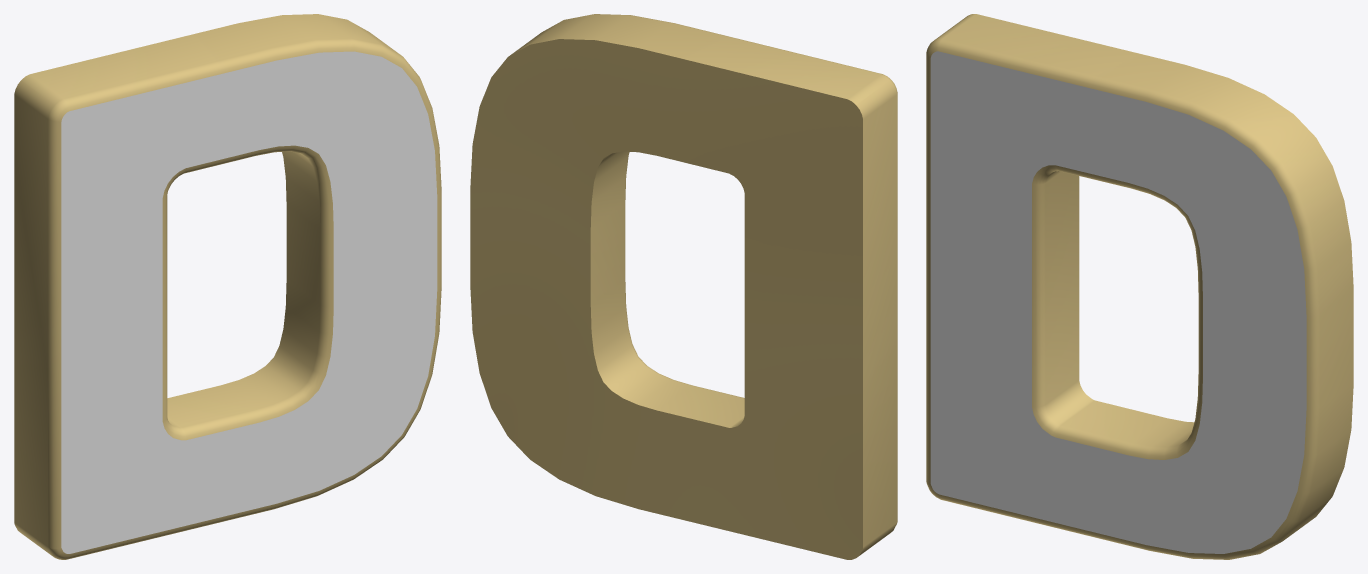
The model's file is LettersLightUp02_D.FBX.
3 renders of one model, left to right at view 1: azimuth 30°, elevation 25°; view 2: azimuth 150°, elevation 25°; view 3: azimuth 330°, elevation 25°, orthographic.
Parts seen in each view (by area): view 1: LettersLightUp02_D; view 2: LettersLightUp02_D; view 3: LettersLightUp02_D.
Boxes of the visible parts, bbox=[...] form: LettersLightUp02_D: bbox=[14, 14, 441, 559]; LettersLightUp02_D: bbox=[470, 14, 897, 559]; LettersLightUp02_D: bbox=[926, 14, 1353, 559].
Size of what is drawn, in the model's own units: 0.5351 by 0.6 by 0.0912.
